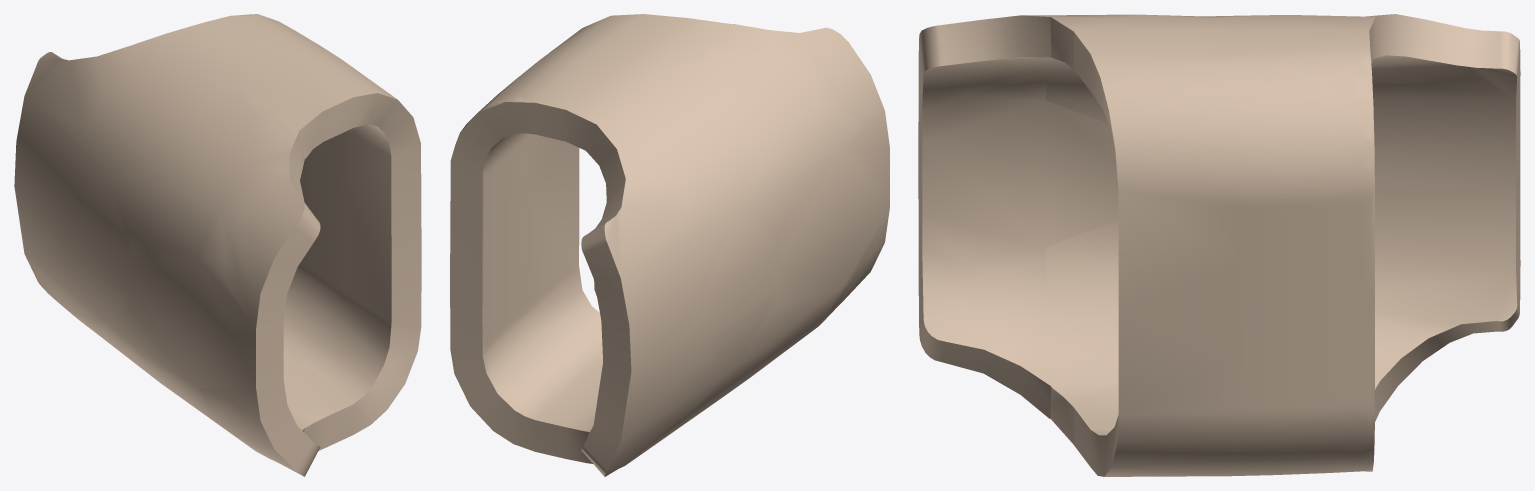
The model's file is r_hand_I_I_0.obj.
3 renders of one model, left to right at view 1: azimuth 30°, elevation 25°; view 2: azimuth 150°, elevation 25°; view 3: azimuth 270°, elevation 25°, orthographic. The views are drawn at different scales.
Size of the model in its own units: 17.47 by 22 by 29.04.
